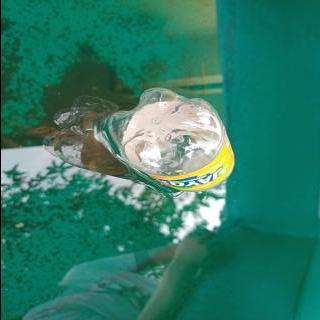bottle: (100, 87, 236, 193)
